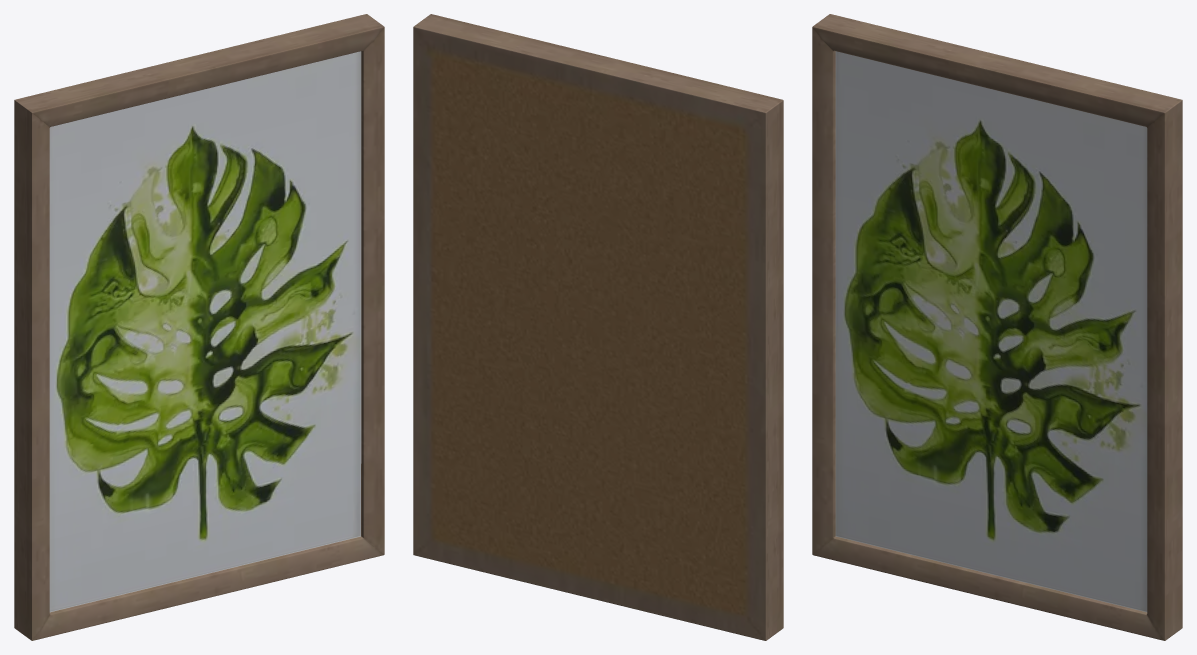
Rendered from cadre_monstera_2.glb.
3 views of the same model, side by side, from view 1: azimuth 30°, elevation 25°; view 2: azimuth 150°, elevation 25°; view 3: azimuth 330°, elevation 25° (orthographic).
Parts seen in each view (by area): view 1: RootNode; view 2: RootNode; view 3: RootNode.
Part boxes in pixels (x1=…): RootNode: x1=14, y1=14, x2=384, y2=640; RootNode: x1=413, y1=14, x2=783, y2=640; RootNode: x1=812, y1=14, x2=1182, y2=640.
Size of the model in its own units: 0.3555 by 0.5085 by 0.0314.
Materials: 1 (1 with a texture image).
